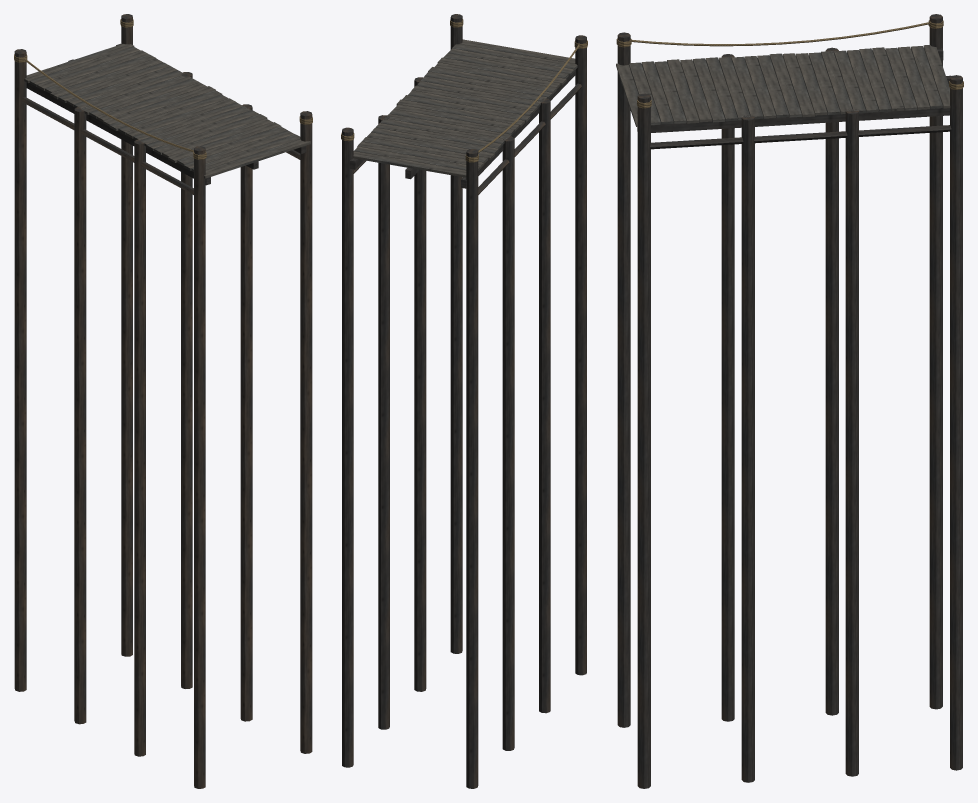
The model's file is horaro_dock.glb.
3 renders of one model, left to right at view 1: azimuth 30°, elevation 25°; view 2: azimuth 150°, elevation 25°; view 3: azimuth 270°, elevation 25°, orthographic. The views are drawn at different scales.
Parts seen in each view (by area): view 1: horaro_dock; view 2: horaro_dock; view 3: horaro_dock.
Part boxes in pixels (x1,y1,x2,y2): horaro_dock: (14, 14, 312, 788); horaro_dock: (341, 14, 587, 788); horaro_dock: (616, 14, 963, 788).
Size of the model in its own units: 3.67 by 13.77 by 6.29.
3 materials, 3 textured.
